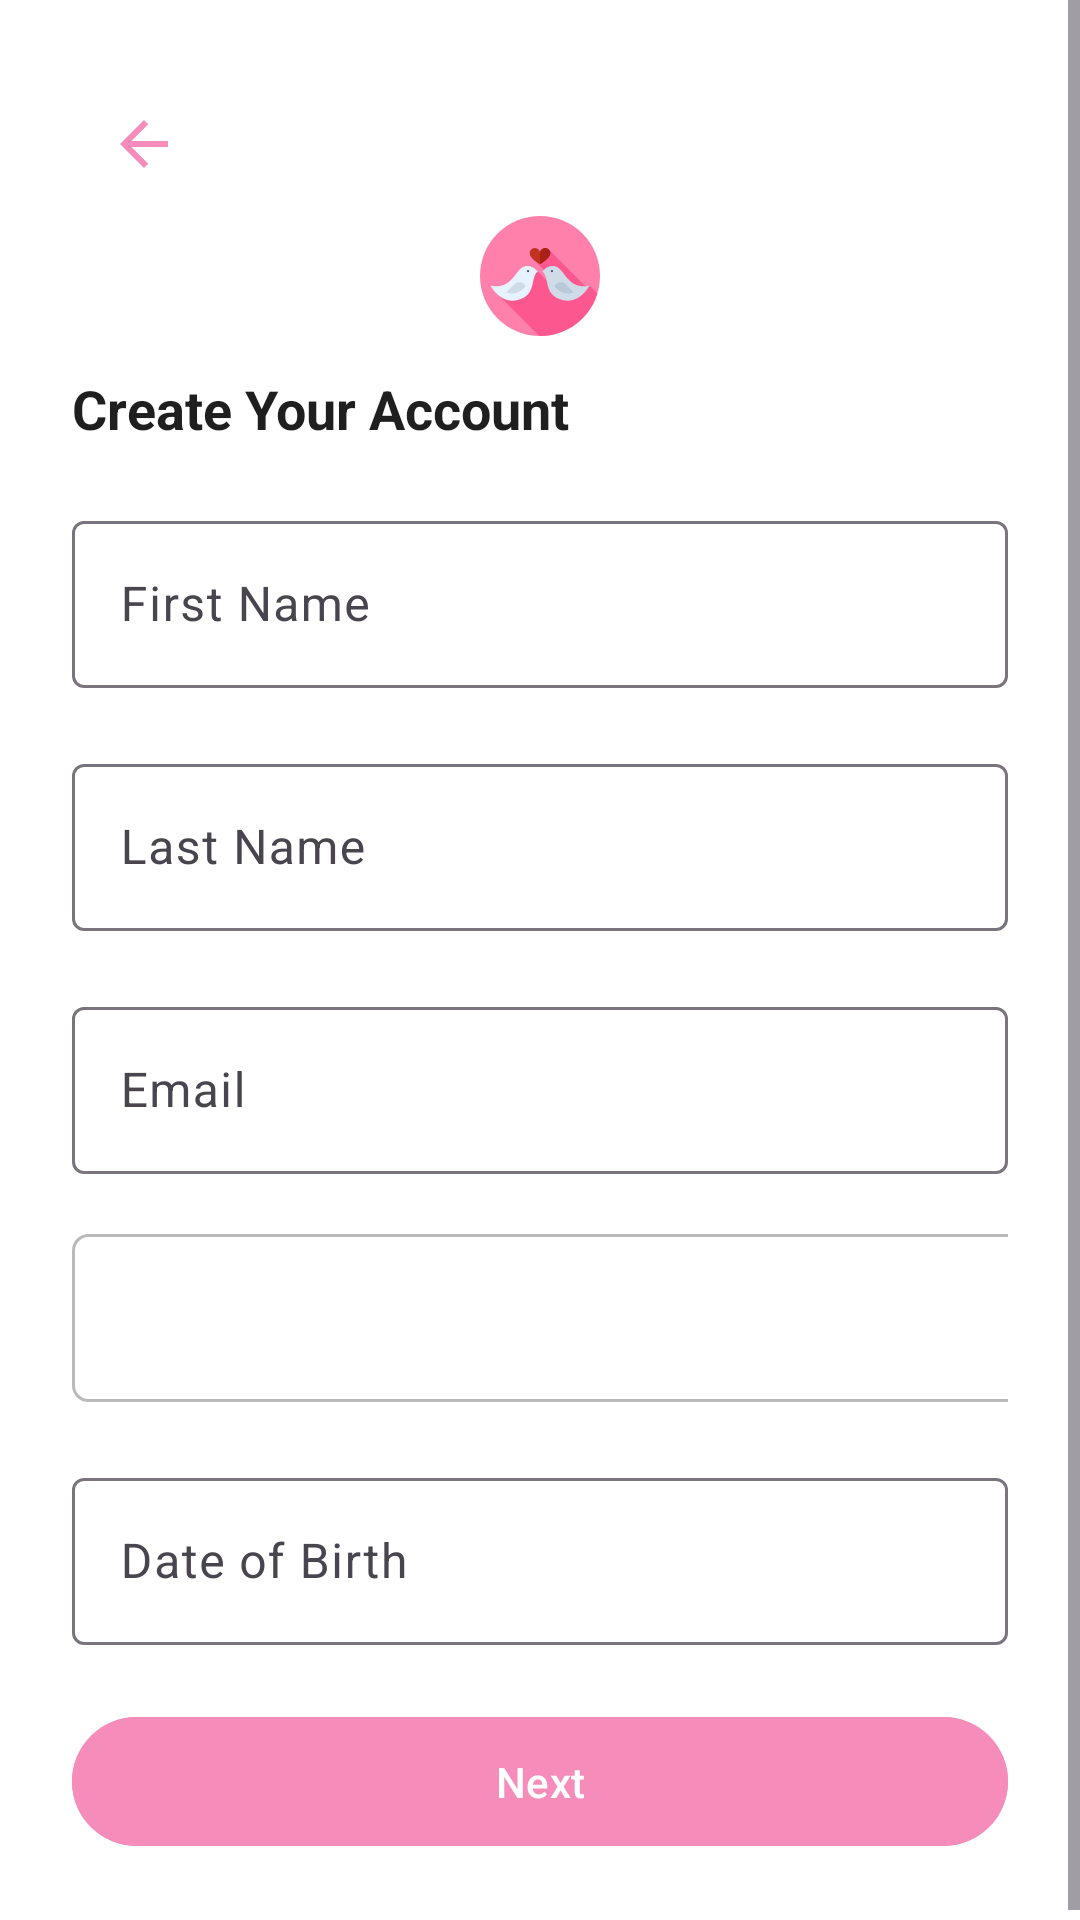

Icons on this 1080×1920 Android screen, each with its box as bbox(x1, y1, x2, y2):
Back Button: bbox(120, 120, 168, 168)
